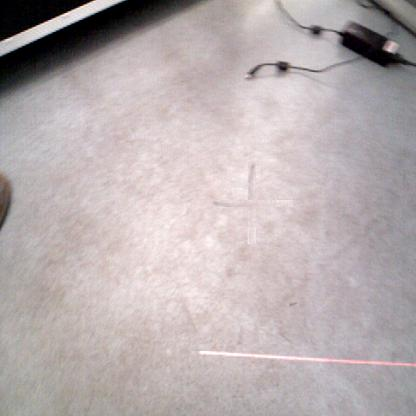mark: (229, 180, 275, 226), (289, 300, 299, 308)
